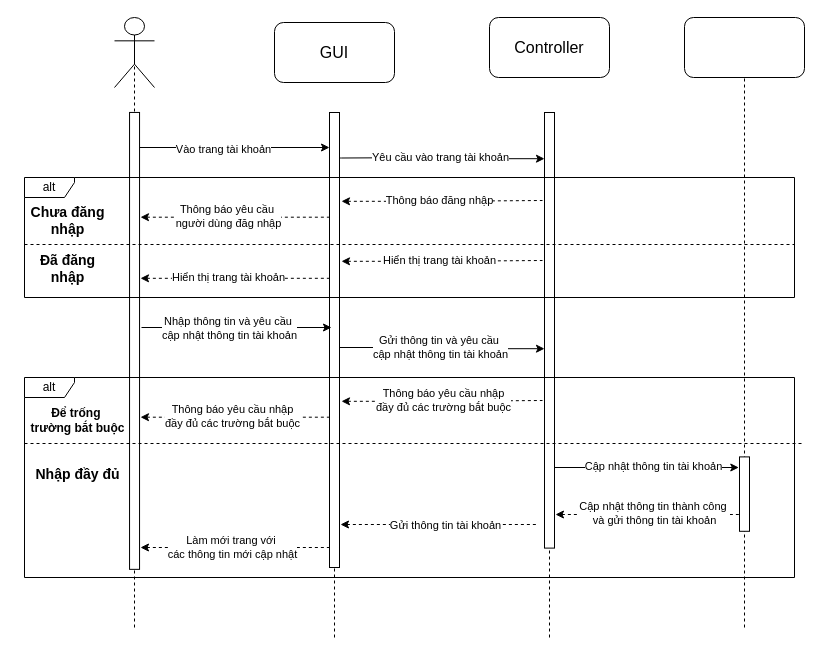
This 822x656 diagram has some shape labels left out. Here are the shapes that lost their labels. From the top down, the box of each, then its label:
(114, 16, 154, 88): Khách hàng
(684, 16, 804, 78): Database
